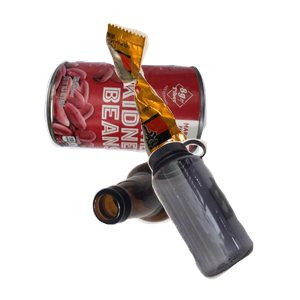glass: (90, 148, 300, 300)
metal: (41, 58, 240, 207)
plastic: (145, 136, 300, 300)
trash: (103, 21, 300, 174)
